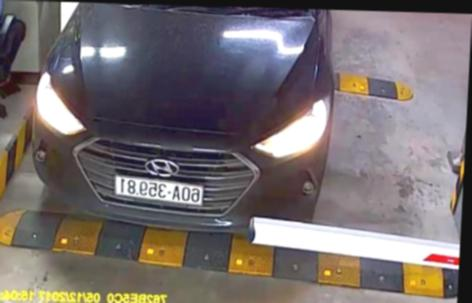License_Plate: (113, 171, 204, 209)
